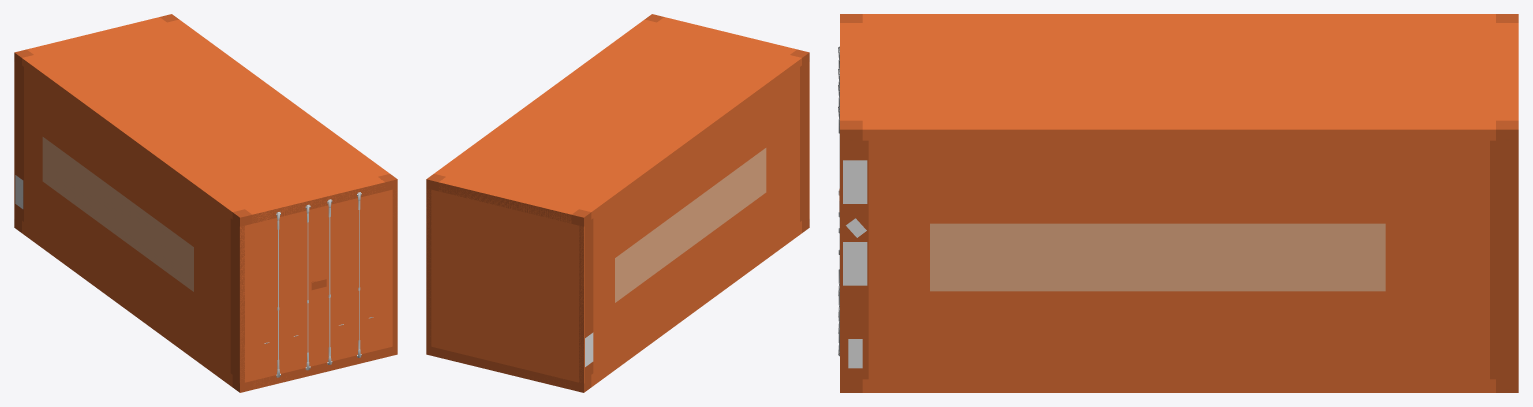
The model's file is s_containers_20_beamng.dae.
The picture shows the model from 3 angles, left to right: view 1: azimuth 30°, elevation 25°; view 2: azimuth 150°, elevation 25°; view 3: azimuth 270°, elevation 25°; orthographic projection. The views are drawn at different scales.
Parts seen in each view (by area): view 1: s_containers_20_beamng_L20, s_containers_20_beamng_L700, s_containers_20_beamng_L80, s_containers_20_beamng_L300; view 2: s_containers_20_beamng_L20, s_containers_20_beamng_L80, s_containers_20_beamng_L700, s_containers_20_beamng_L300; view 3: s_containers_20_beamng_L20, s_containers_20_beamng_L700, s_containers_20_beamng_L300, s_containers_20_beamng_L80.
Part boxes in pixels (x1=…): s_containers_20_beamng_L20: x1=14, y1=17, x2=392, y2=389; s_containers_20_beamng_L700: x1=14, y1=14, x2=397, y2=392; s_containers_20_beamng_L80: x1=240, y1=182, x2=397, y2=389; s_containers_20_beamng_L300: x1=14, y1=14, x2=397, y2=392; s_containers_20_beamng_L20: x1=426, y1=17, x2=809, y2=388; s_containers_20_beamng_L80: x1=426, y1=182, x2=583, y2=389; s_containers_20_beamng_L700: x1=426, y1=14, x2=809, y2=392; s_containers_20_beamng_L300: x1=426, y1=14, x2=809, y2=392; s_containers_20_beamng_L20: x1=840, y1=14, x2=1518, y2=392; s_containers_20_beamng_L700: x1=838, y1=14, x2=1518, y2=392; s_containers_20_beamng_L300: x1=839, y1=14, x2=1518, y2=392; s_containers_20_beamng_L80: x1=840, y1=143, x2=1518, y2=392.
Bounding box in the file's own units: 2.48 × 6.07 × 2.6.
